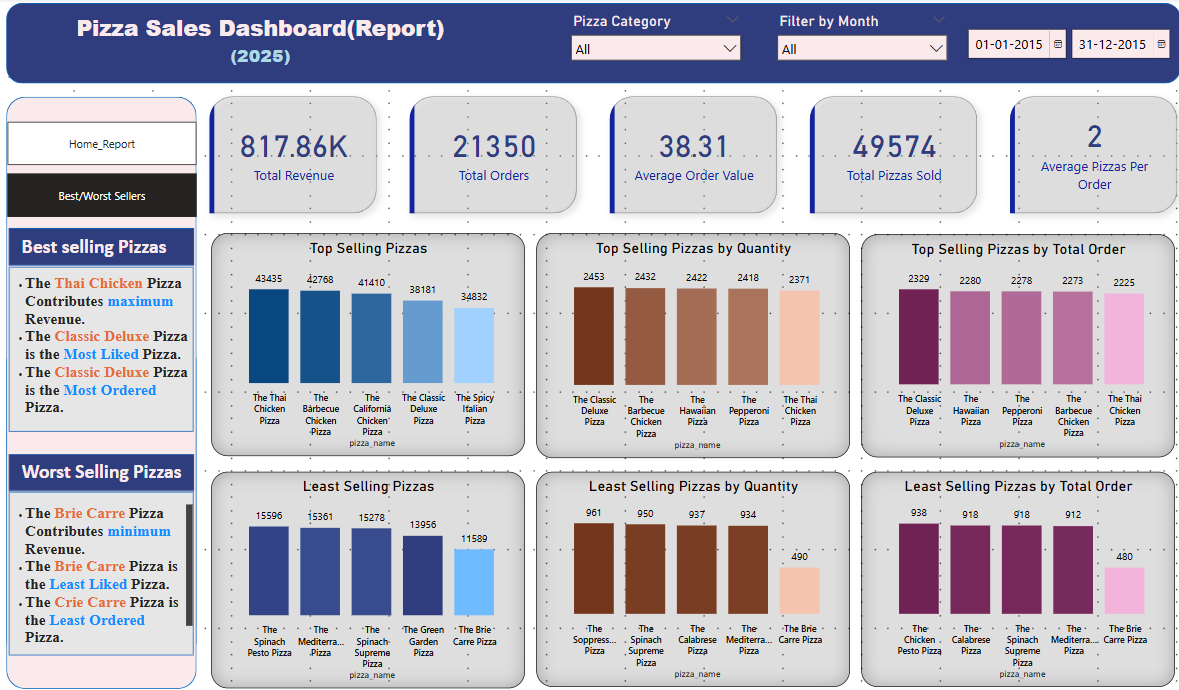

The dashboard page shown, as its layout file describes it:
{"tool":"powerbi","page":{"name":"Best/Worst Sellers","canvas":[1460,867],"ordinal":1},"visuals":[{"type":"cardVisual","fields":{"Data":["pizza_sales.Total Revenue","pizza_sales.Total Orders","pizza_sales.Average Order Value","pizza_sales.Total Pizzas Sold","pizza_sales.Average Pizzas Per Order"]},"box":[245.5,103.3,1213.8,175.3],"z":0},{"type":"shape","title":"Pizza Sales Analysis/Dashboard  (2015)","box":[14,6,1432,98],"z":1000},{"type":"textbox","box":[0,11.7,646.8,91.6],"z":2000},{"type":"columnChart","title":"Top Selling Pizzas","fields":{"Category":["pizza_sales.pizza_name"],"Y":["pizza_sales.Total Revenue"]},"box":[264,286,382,272],"z":3000},{"type":"shape","box":[14,120,232,722],"z":4000},{"type":"shape","box":[14,278,232,52],"z":5000},{"type":"shape","box":[14,552.7,232,52],"z":6000},{"type":"shape","box":[14.2,324.2,231.7,207.5],"z":7000},{"type":"shape","box":[14.2,598.3,231.7,205.8],"z":8000},{"type":"slicer","fields":{"Values":["pizza_sales.pizza_category"]},"box":[691.7,11.7,228,76],"z":9000},{"type":"slicer","fields":{"Values":["pizza_sales.order_date"]},"box":[1172.9,27.3,265,52.6],"z":10000},{"type":"slicer","fields":{"Values":["pizza_sales.Order Month"]},"box":[943,11.7,228,76],"z":11000},{"type":"textbox","box":[28,557,263,41],"z":12000},{"type":"textbox","box":[28,284,263,40],"z":13000},{"type":"textbox","box":[14,332,232,228],"z":14000},{"type":"textbox","box":[14,612,232,178],"z":15000},{"type":"columnChart","title":"Top Selling Pizzas by Quantity","fields":{"Category":["pizza_sales.pizza_name"],"Y":["Sum(pizza_sales.quantity)"]},"box":[660,286,382,274],"z":16000},{"type":"columnChart","title":"Top Selling Pizzas by Total Order","fields":{"Category":["pizza_sales.pizza_name"],"Y":["pizza_sales.Total Orders"]},"box":[1056,288,382,272],"z":17000},{"type":"columnChart","title":"Least Selling Pizzas by Total Order","fields":{"Category":["pizza_sales.pizza_name"],"Y":["pizza_sales.Total Orders"]},"box":[1056,578,382,262],"z":18000},{"type":"columnChart","title":"Least Selling Pizzas by Quantity","fields":{"Category":["pizza_sales.pizza_name"],"Y":["Sum(pizza_sales.quantity)"]},"box":[660,578,382,262],"z":19000},{"type":"columnChart","title":"Least Selling Pizzas","fields":{"Category":["pizza_sales.pizza_name"],"Y":["pizza_sales.Total Revenue"]},"box":[264,578,382,264],"z":20000},{"type":"shape","box":[210.8,222.5,26.7,36.7],"z":21000},{"type":"pageNavigator","box":[15.8,150.8,230,117.5],"z":22000}]}

Visuals, with their boxes in screenshot pixels (x1, y1, x2, y2), scaled from the page's 1460x867 canvas onto the 1179x690 screenshot:
cardVisual - pizza_sales.Total Revenue x pizza_sales.Total Orders: 198/82/1178/222
"Pizza Sales Analysis/Dashboard  (2015)" shape: 11/5/1168/83
textbox: 0/9/522/82
"Top Selling Pizzas" columnChart: 213/228/522/444
shape: 11/96/199/670
shape: 11/221/199/263
shape: 11/440/199/481
shape: 11/258/199/423
shape: 11/476/199/640
slicer - pizza_sales.pizza_category: 559/9/743/70
slicer - pizza_sales.order_date: 947/22/1161/64
slicer - pizza_sales.Order Month: 762/9/946/70
textbox: 23/443/235/476
textbox: 23/226/235/258
textbox: 11/264/199/446
textbox: 11/487/199/629
"Top Selling Pizzas by Quantity" columnChart: 533/228/841/446
"Top Selling Pizzas by Total Order" columnChart: 853/229/1161/446
"Least Selling Pizzas by Total Order" columnChart: 853/460/1161/669
"Least Selling Pizzas by Quantity" columnChart: 533/460/841/669
"Least Selling Pizzas" columnChart: 213/460/522/670
shape: 170/177/192/206
pageNavigator: 13/120/198/214
